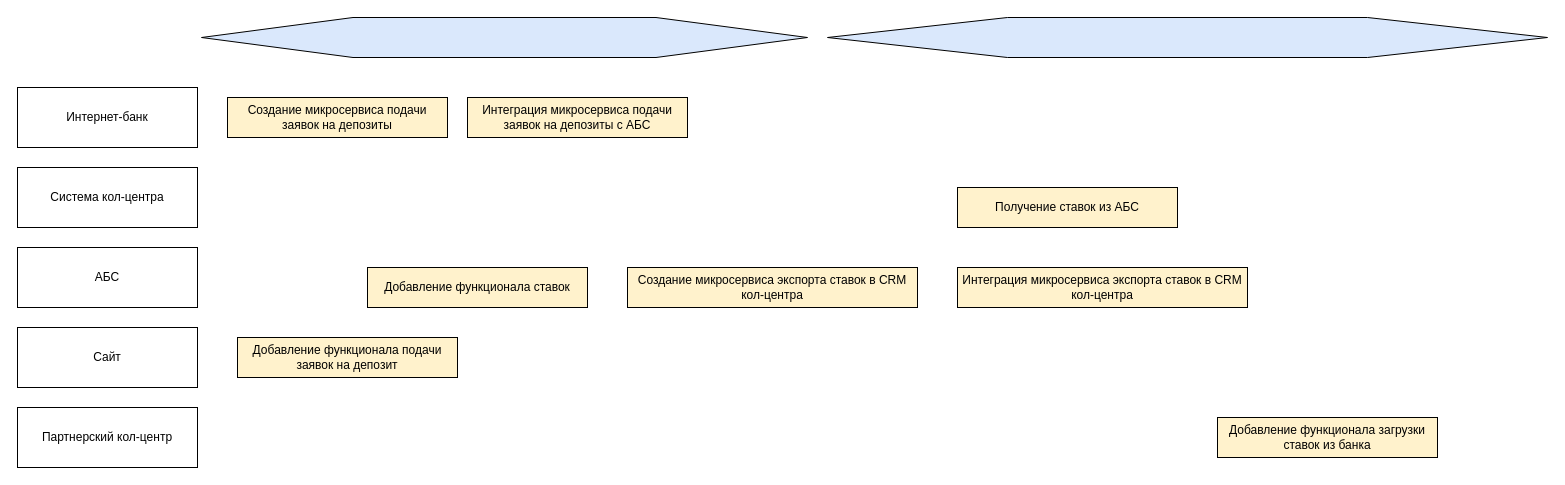
The diagram is 1565 pixels wide and 485 high, and some of its shapes have lost their labels. Each missing label, with the centre of its shape:
"Q2 2025" belongs at [1187,37].
"Q3 2025" belongs at [504,37].
